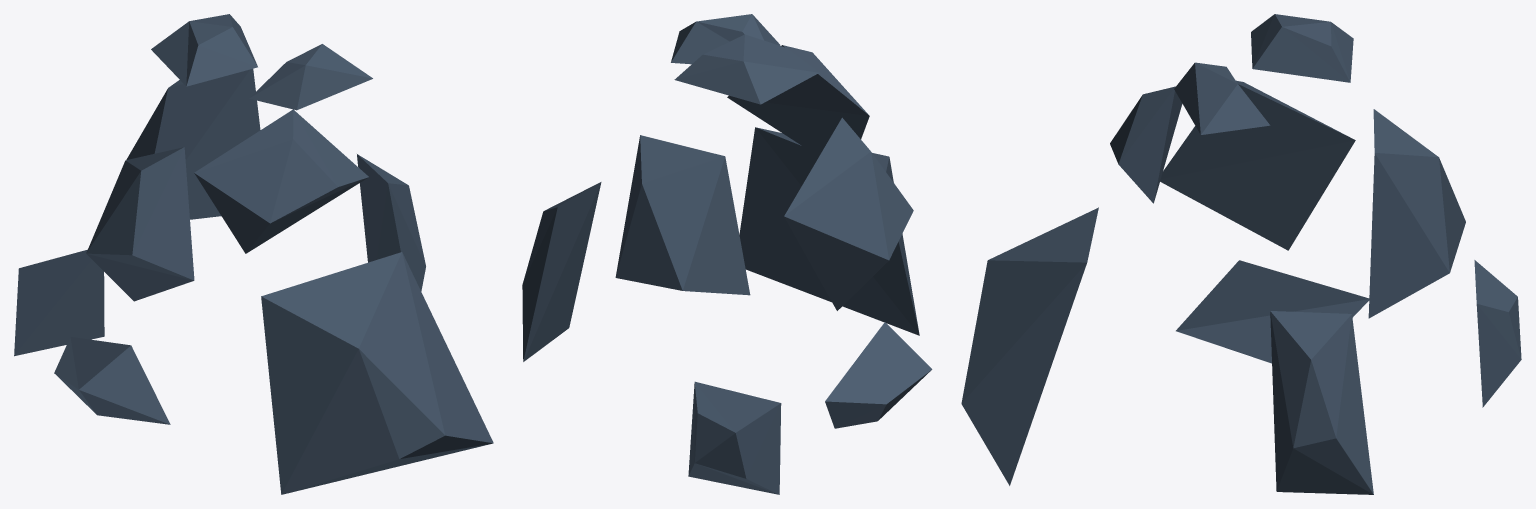
The model's file is IronOreB.fbx.
The picture shows the model from 3 angles, left to right: view 1: azimuth 30°, elevation 25°; view 2: azimuth 150°, elevation 25°; view 3: azimuth 270°, elevation 25°; orthographic projection. The views are drawn at different scales.
Visible parts, largest first — view 1: IronOreB; view 2: IronOreB; view 3: IronOreB.
Boxes of the visible parts, <box> form: IronOreB: <box>14,14,493,494</box>; IronOreB: <box>522,14,932,494</box>; IronOreB: <box>961,14,1521,494</box>.
Size of the model in its own units: 40.77 by 38.94 by 49.24.
